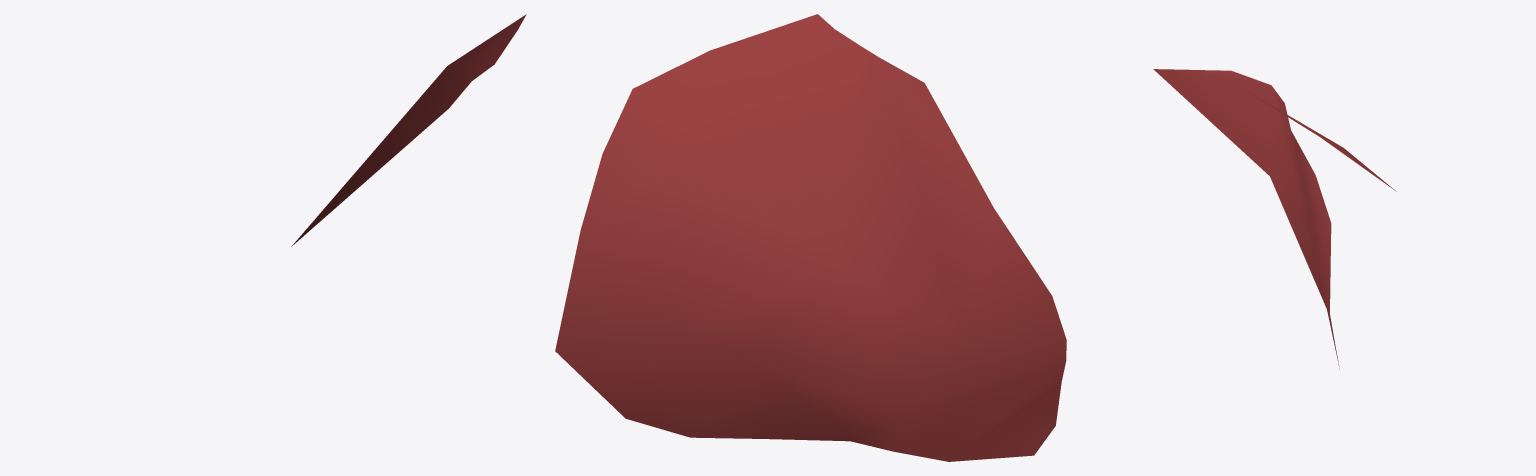
The model's file is rectus-posterior-minor-capitis-muscle-el.glb.
The picture shows the model from 3 angles, left to right: view 1: azimuth 30°, elevation 25°; view 2: azimuth 150°, elevation 25°; view 3: azimuth 270°, elevation 25°; orthographic projection. The views are drawn at different scales.
Parts seen in each view (by area): view 1: Rectus posterior minor capitis muscle.el; view 2: Rectus posterior minor capitis muscle.el; view 3: Rectus posterior minor capitis muscle.el.
Boxes of the visible parts, bbox=[...] form: Rectus posterior minor capitis muscle.el: bbox=[291, 14, 526, 246]; Rectus posterior minor capitis muscle.el: bbox=[555, 14, 1066, 461]; Rectus posterior minor capitis muscle.el: bbox=[1153, 69, 1396, 369].
Bounding box in the file's own units: 0.00404 × 0.00312 × 0.00271.
